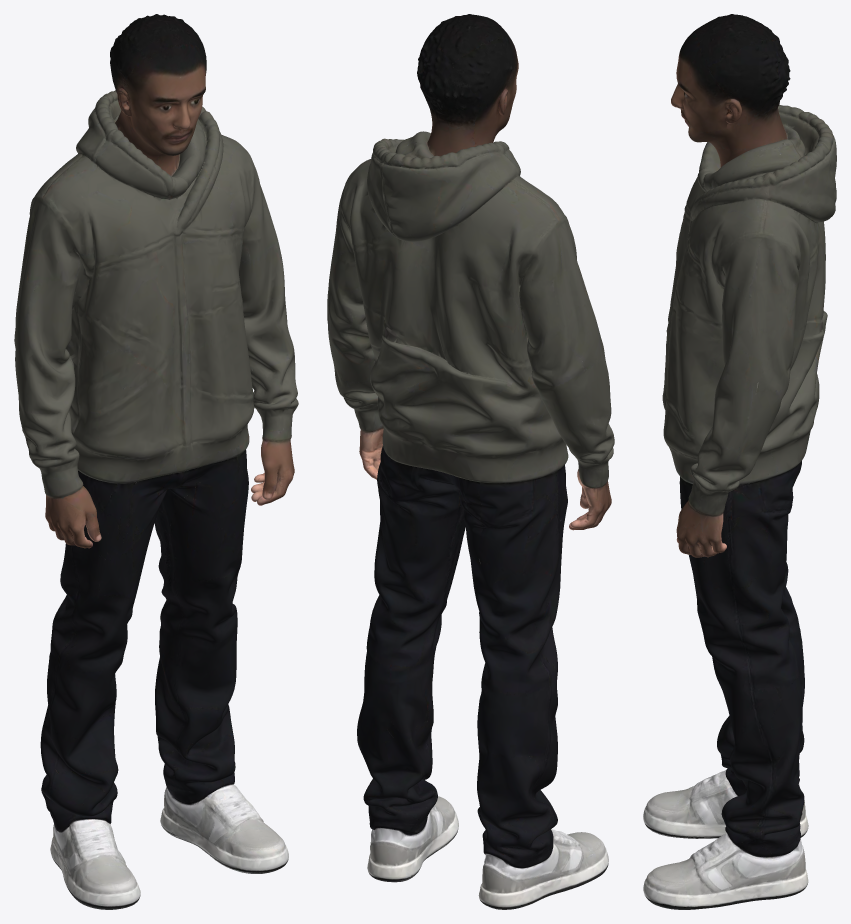
Rendered from rich-body.glb.
3 views of the same model, side by side, from view 1: azimuth 30°, elevation 25°; view 2: azimuth 150°, elevation 25°; view 3: azimuth 270°, elevation 25° (orthographic).
Parts seen in each view (by area): view 1: Mesh_0.001; view 2: Mesh_0.001; view 3: Mesh_0.001.
Boxes of the visible parts, <box> form: Mesh_0.001: <box>14,14,298,909</box>; Mesh_0.001: <box>327,14,614,909</box>; Mesh_0.001: <box>643,14,836,909</box>.
Size of the model in its own units: 0.5867 by 1.75 by 0.3637.
Materials: 1 (1 with a texture image).
